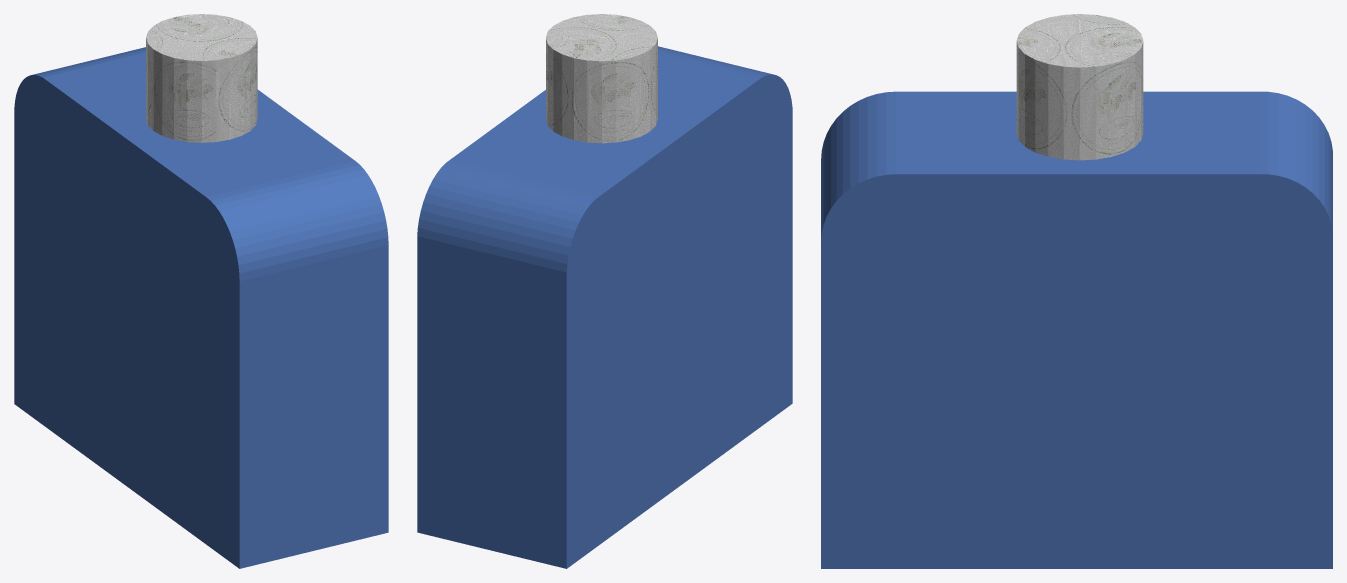
3 views of the same model, side by side, from view 1: azimuth 30°, elevation 25°; view 2: azimuth 150°, elevation 25°; view 3: azimuth 270°, elevation 25° (orthographic). The views are drawn at different scales.
Visible parts, largest first — view 1: mesh7_mesh7-geometry, mesh6_mesh6-geometry; view 2: mesh7_mesh7-geometry, mesh6_mesh6-geometry; view 3: mesh7_mesh7-geometry, mesh6_mesh6-geometry.
Part boxes in pixels (x1,y1,x2,y2): mesh7_mesh7-geometry: [14, 47, 388, 568]; mesh6_mesh6-geometry: [146, 14, 257, 142]; mesh7_mesh7-geometry: [417, 46, 792, 568]; mesh6_mesh6-geometry: [546, 14, 657, 143]; mesh7_mesh7-geometry: [821, 91, 1332, 568]; mesh6_mesh6-geometry: [1016, 14, 1143, 160].
Bounding box in the file's own units: 0.2546 × 0.7008 × 0.6664.
